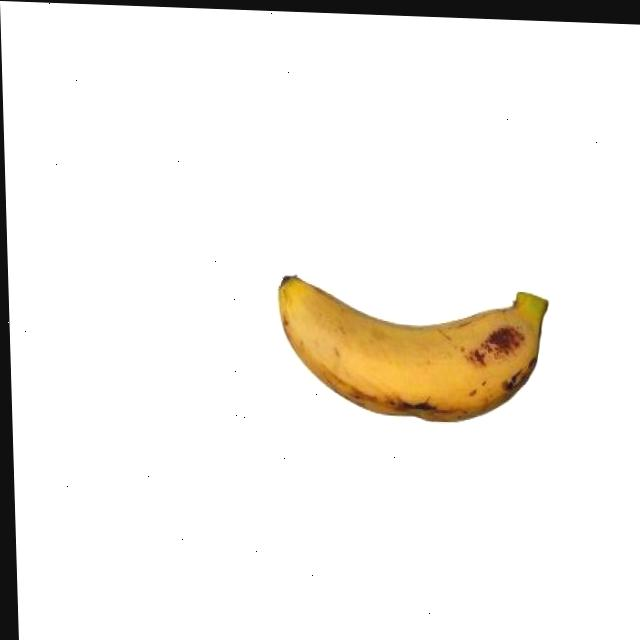banana: (266, 268, 559, 436)
